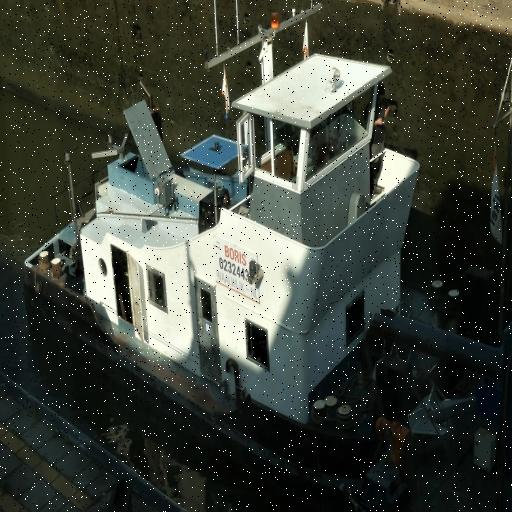tugboat: (21, 2, 506, 508)
